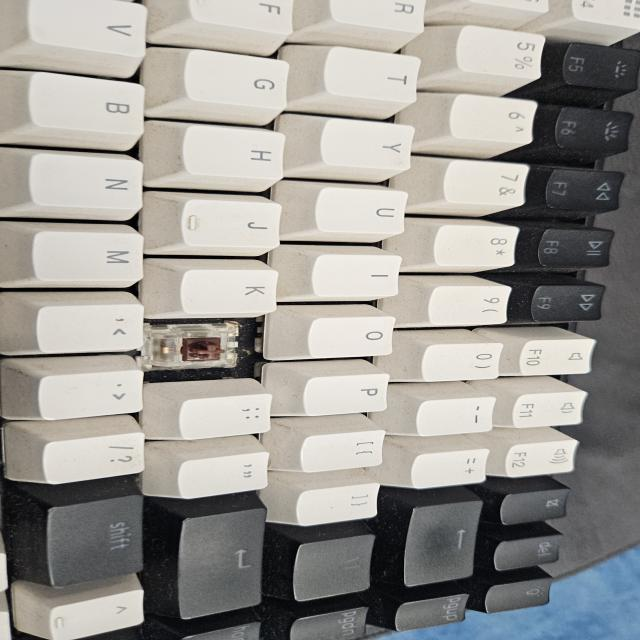C: (162, 322, 251, 377)
